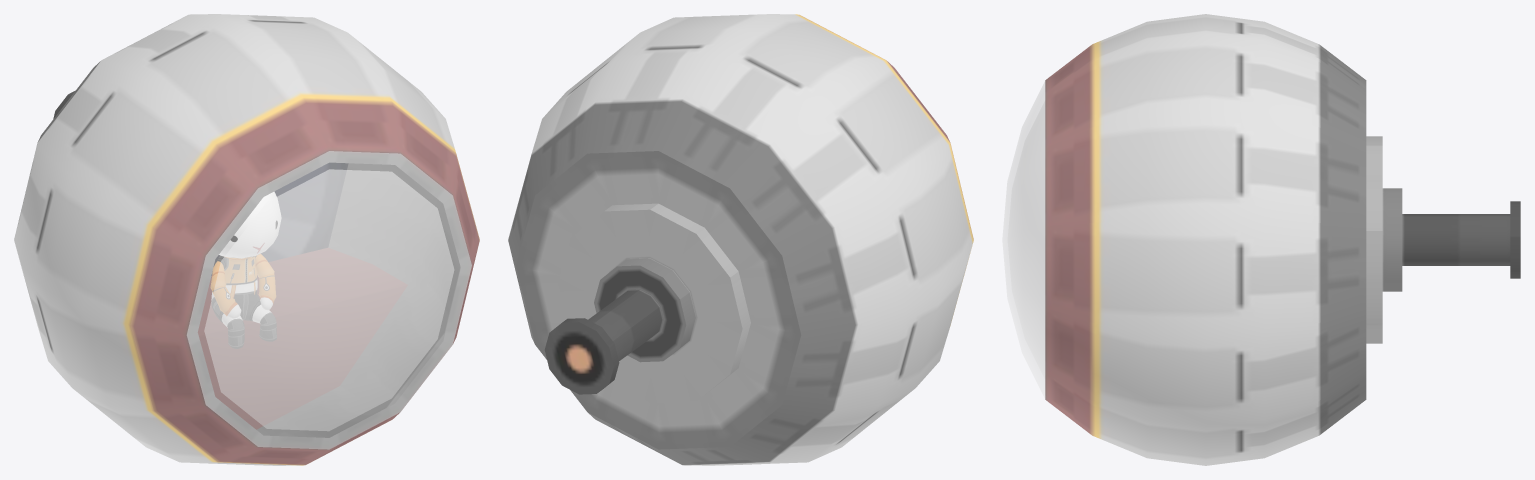
The model's file is fw_ball.glb.
3 renders of one model, left to right at view 1: azimuth 30°, elevation 25°; view 2: azimuth 150°, elevation 25°; view 3: azimuth 270°, elevation 25°, orthographic. The views are drawn at different scales.
Visible parts, largest first — view 1: fw_ball, fw_ball_glass, fw_ball_qmimi; view 2: fw_ball; view 3: fw_ball, fw_ball_glass.
Boxes of the visible parts, box(x1,y1,x2,y2) form: fw_ball: box(14, 14, 479, 465); fw_ball_glass: box(187, 151, 471, 449); fw_ball_qmimi: box(210, 192, 280, 348); fw_ball: box(508, 14, 973, 465); fw_ball: box(1045, 14, 1520, 465); fw_ball_glass: box(1002, 81, 1045, 398).
Size of the model in its own units: 10 by 10 by 11.43.
Materials: 2 (2 with a texture image).
